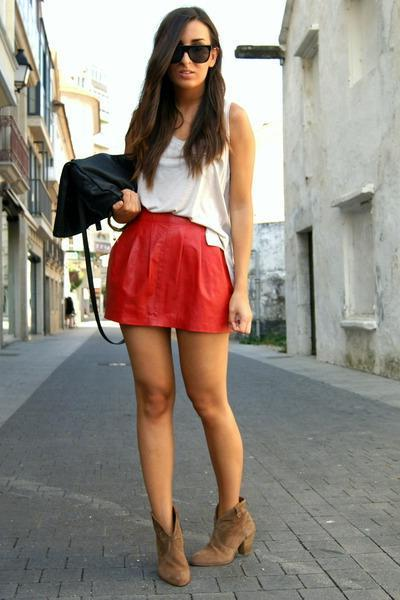short sleeve shirt: (130, 92, 239, 285)
skirt: (102, 208, 239, 331)
